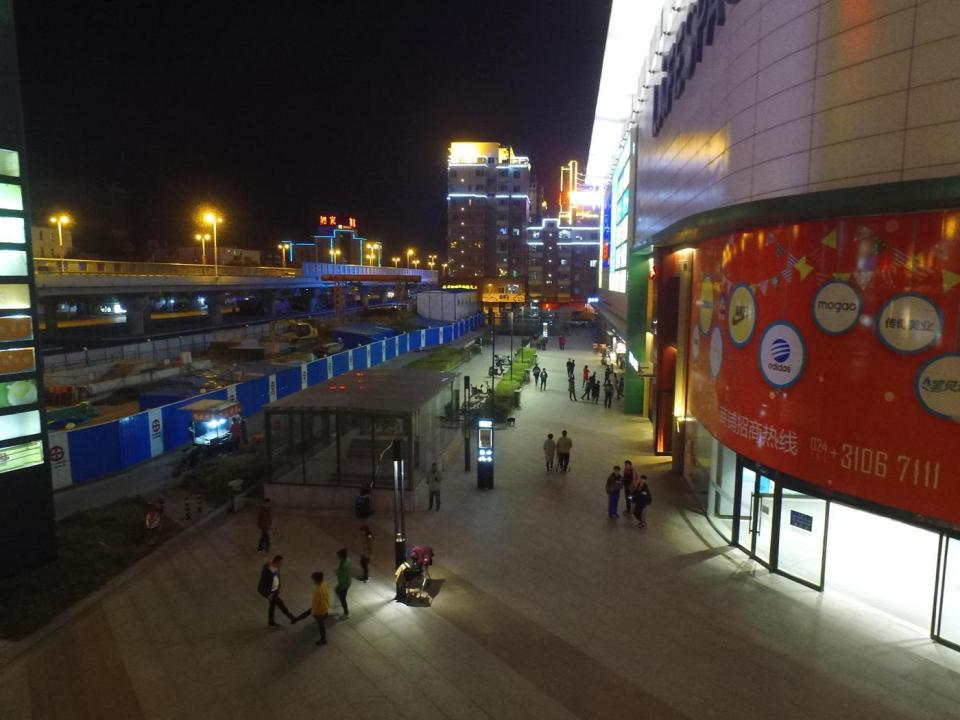car: (565, 318, 588, 327)
truck: (237, 298, 268, 314), (326, 294, 356, 308), (267, 297, 291, 314), (296, 297, 327, 310), (569, 311, 595, 322)
